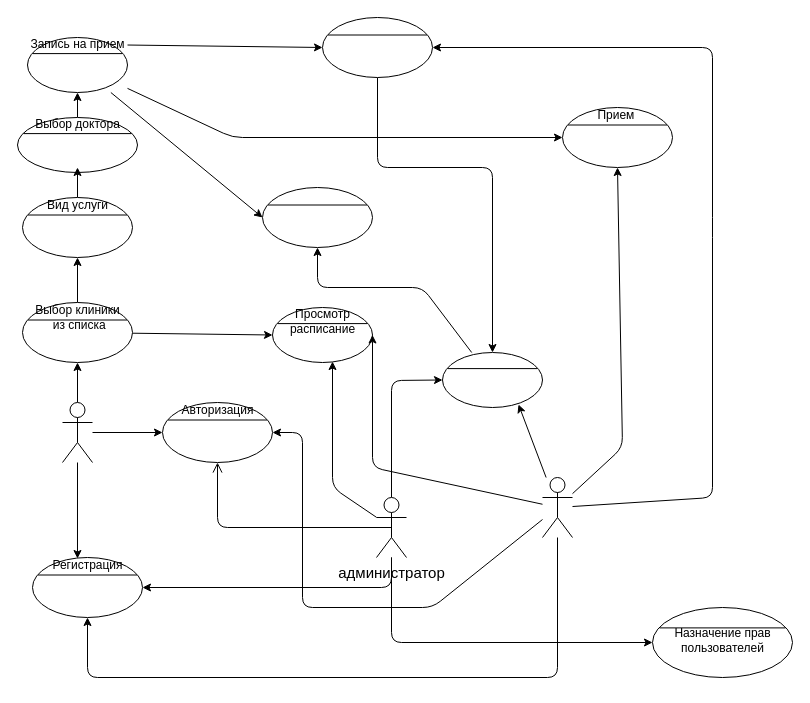
Some shapes in this 810 by 703 pixel diagram are drawn without their labels. The shapes that lost their labels are listed below. From the top down, each one's box as (x1, y1, x2, y2) in pixels, then its label:
(322, 16, 432, 78): Перенос записи
(262, 186, 372, 248): Отмена записи
(442, 352, 542, 408): Изменение расписания
(62, 402, 92, 462): пациент
(542, 476, 572, 538): доктор
